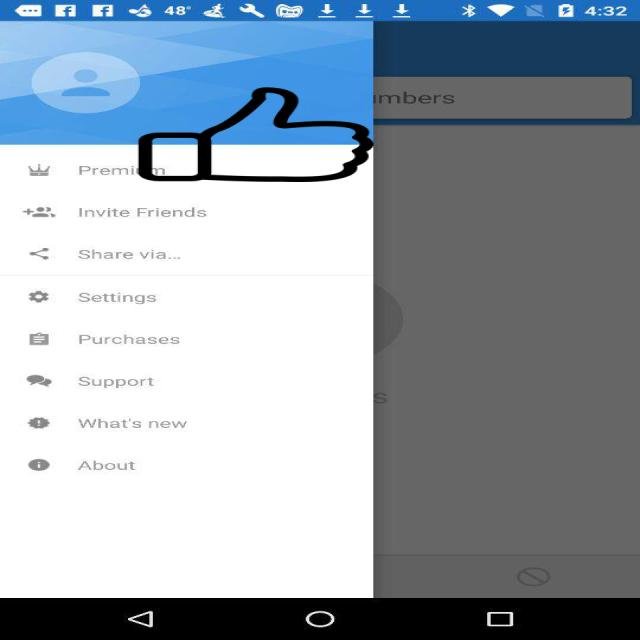privacy zuckering: (135, 87, 377, 182)
